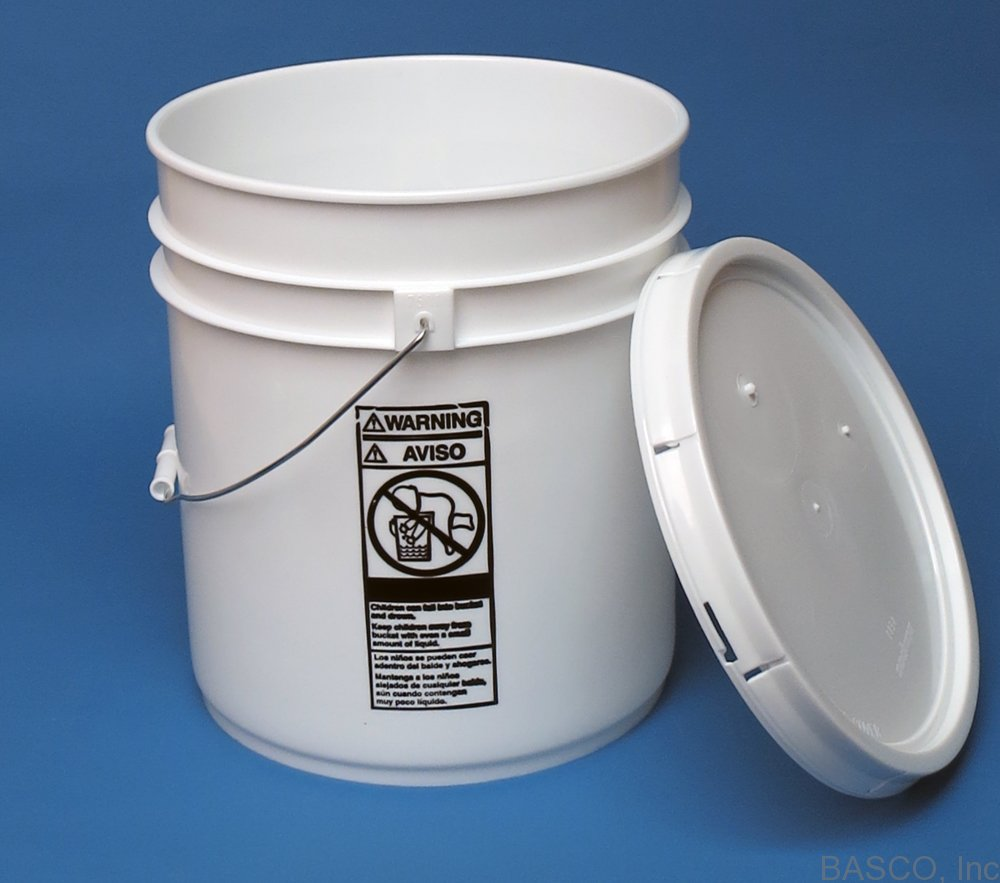Rec_Plastic: (124, 45, 729, 798), (612, 211, 993, 796)
